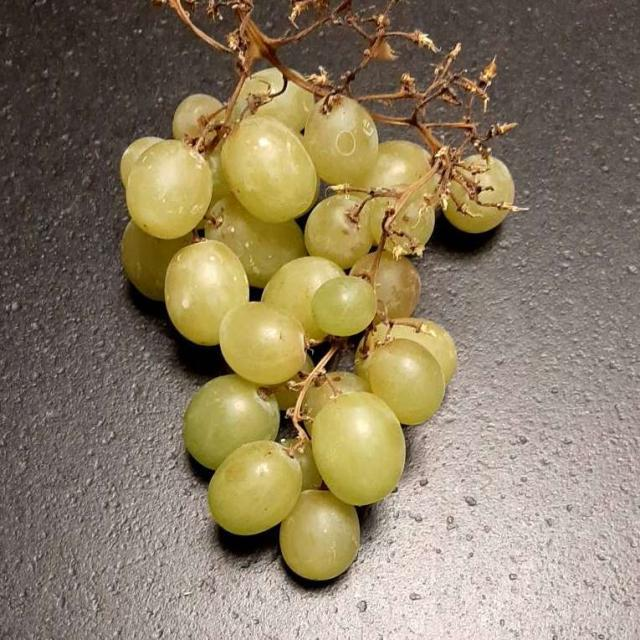Grapes: (102, 29, 519, 598)
